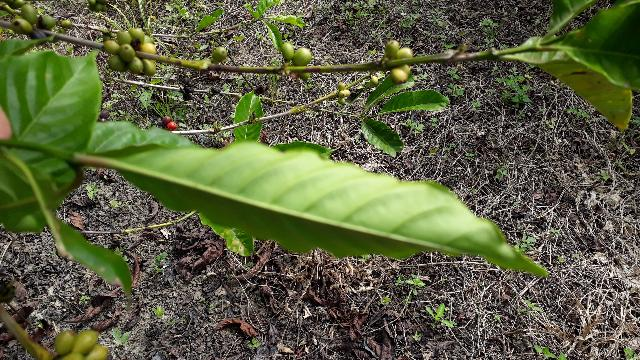healthy: (115, 145, 547, 273)
